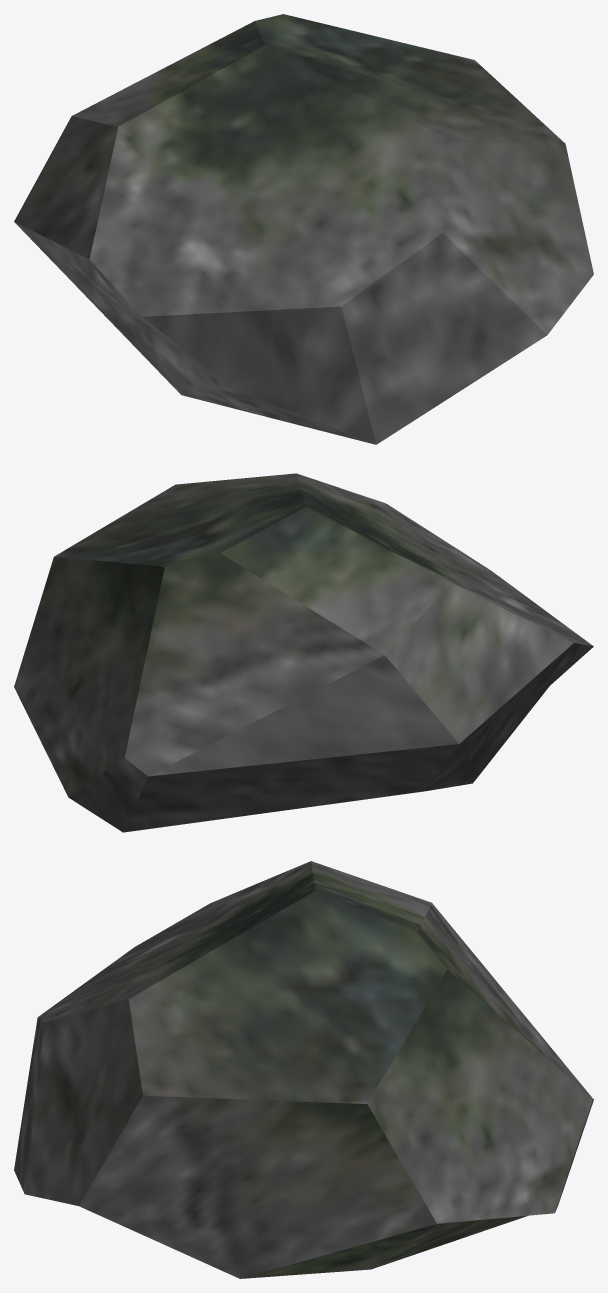
File: med rock.obj
3 renders of one model, top to bottom at view 1: azimuth 30°, elevation 25°; view 2: azimuth 150°, elevation 25°; view 3: azimuth 270°, elevation 25°, orthographic. The views are drawn at different scales.
Visible parts, largest first — view 1: mediun_rock; view 2: mediun_rock; view 3: mediun_rock.
Part boxes in pixels (box(x1,y1,x2,y2)): mediun_rock: box(14, 14, 593, 444); mediun_rock: box(14, 473, 593, 832); mediun_rock: box(14, 861, 593, 1278).
Bounding box in the file's own units: 2.04 × 1.19 × 2.09.
Materials: 1 (1 with a texture image).
